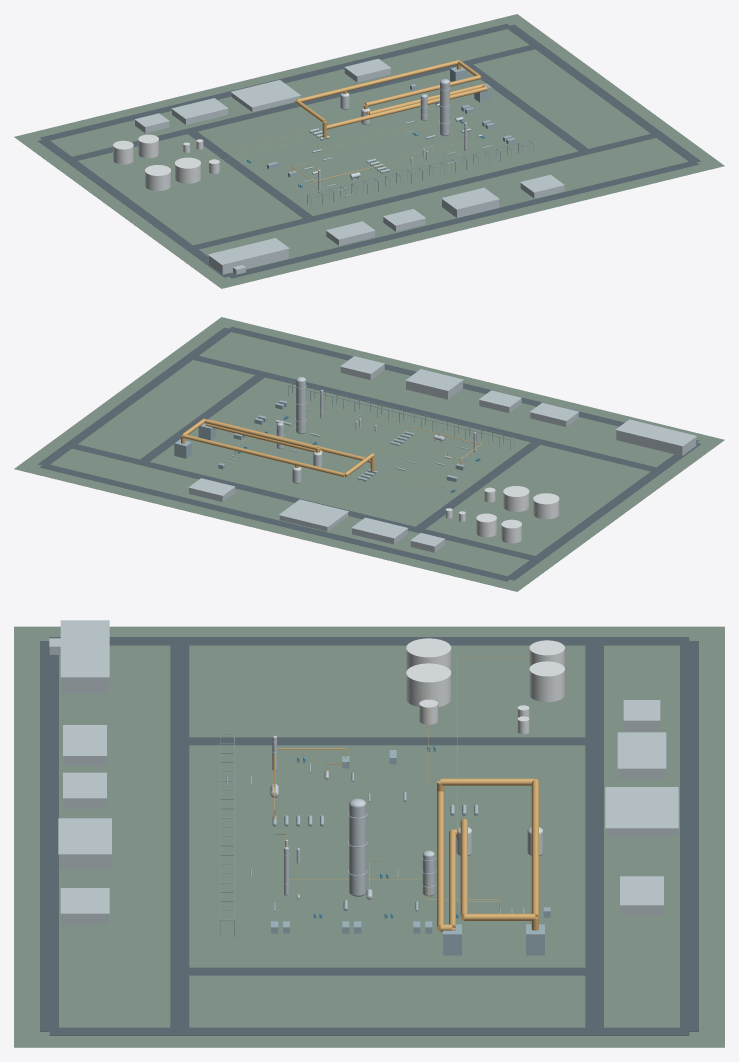
3 renders of one model, top to bottom at view 1: azimuth 30°, elevation 25°; view 2: azimuth 150°, elevation 25°; view 3: azimuth 270°, elevation 25°, orthographic. The views are drawn at different scales.
Visible parts, largest first — view 1: G-01.001, ROAD-5-0, ROAD-1-0, ROAD-5-2, ROAD-2-0, ROAD-5-1, ROAD-5-3, ROAD-3-0, ROAD-4-0, B-08 roof, B-03 roof, B-03.001 (+14 smaller); view 2: G-01.001, ROAD-5-2, ROAD-1-0, ROAD-2-0, ROAD-5-1, ROAD-5-3, ROAD-5-0, ROAD-3-0, ROAD-4-0, B-08 roof, B-03 roof, B-03.001 (+13 smaller); view 3: G-01.001, ROAD-1-0, ROAD-2-0, ROAD-5-2, ROAD-5-0, ROAD-5-1, ROAD-5-3, ROAD-4-0, ROAD-3-0, B-08 roof, B-03 roof, B-04 roof (+18 smaller).
Boxes of the visible parts, box(x1,y1,x2,y2) form: G-01.001: box(14, 14, 724, 288); ROAD-5-0: box(228, 161, 698, 278); ROAD-1-0: box(191, 134, 660, 249); ROAD-5-2: box(40, 23, 511, 140); ROAD-2-0: box(72, 44, 539, 161); ROAD-5-1: box(505, 24, 700, 162); ROAD-5-3: box(38, 138, 232, 277); ROAD-3-0: box(188, 129, 314, 220); ROAD-4-0: box(467, 62, 590, 153); B-08 roof: box(231, 80, 300, 107); B-03 roof: box(208, 238, 289, 265); B-03.001: box(209, 249, 288, 274); G-01.001: box(14, 317, 724, 591); ROAD-5-2: box(40, 464, 512, 581); ROAD-1-0: box(188, 354, 660, 472); ROAD-2-0: box(72, 444, 539, 561); ROAD-5-1: box(38, 327, 230, 466); ROAD-5-3: box(506, 443, 700, 580); ROAD-5-0: box(227, 326, 698, 442); ROAD-3-0: box(416, 440, 542, 528); ROAD-4-0: box(137, 375, 265, 462); B-08 roof: box(279, 499, 348, 526); B-03 roof: box(615, 419, 696, 446); B-03.001: box(616, 430, 696, 455); G-01.001: box(14, 626, 724, 1047); ROAD-1-0: box(170, 641, 189, 1031); ROAD-2-0: box(585, 641, 603, 1031); ROAD-5-2: box(680, 641, 698, 1031); ROAD-5-0: box(40, 641, 58, 1031); ROAD-5-1: box(49, 1027, 689, 1035); ROAD-5-3: box(49, 637, 689, 645); ROAD-4-0: box(180, 967, 594, 975); ROAD-3-0: box(180, 737, 593, 745); B-08 roof: box(605, 787, 678, 828); B-03 roof: box(60, 620, 109, 677); B-04 roof: box(58, 818, 111, 854).
Bounding box in the file's own units: 420 × 45.3 × 300.
